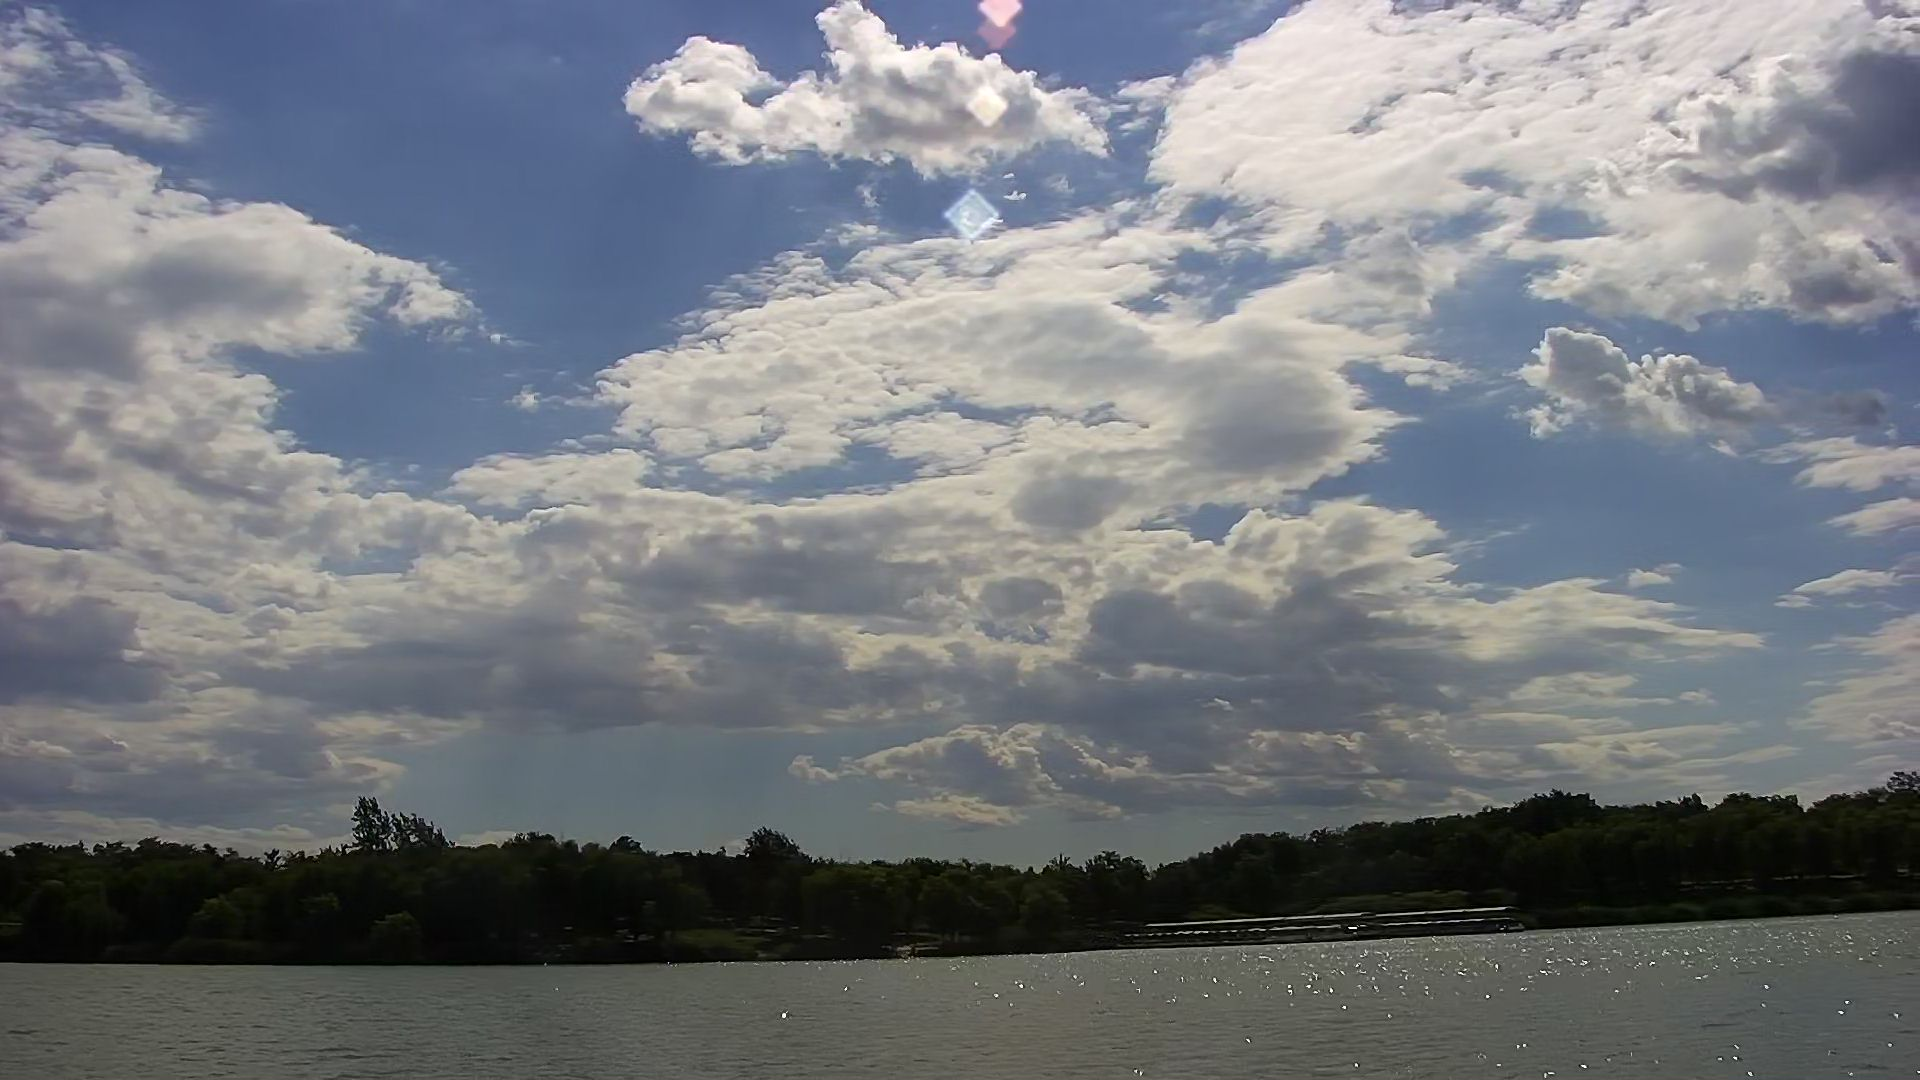harbor: (1124, 902, 1534, 956)
